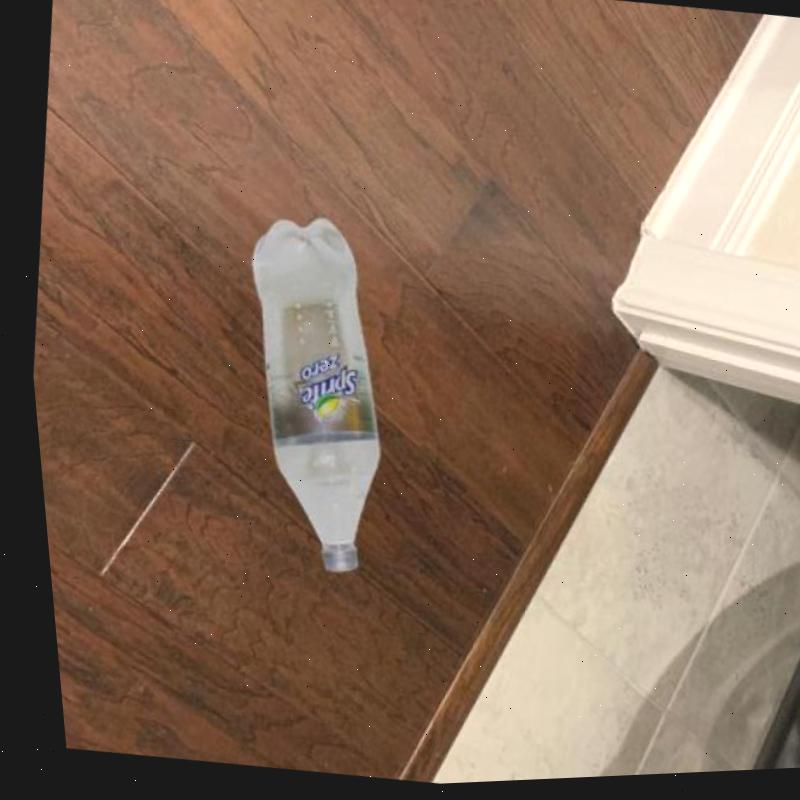botella: (193, 209, 415, 587)
